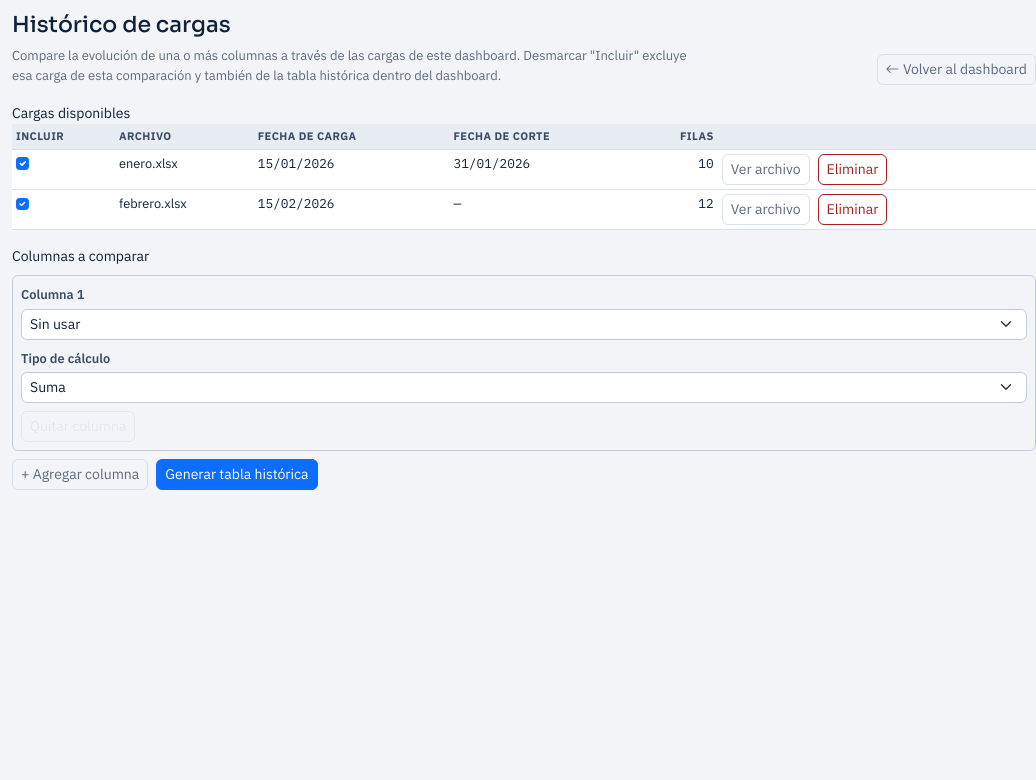
DashboardHistoricoPage › sin elegir ninguna columna, "Generar tabla histórica" muestra un error de validación
expect the text "enero.xlsx" is shown: met, box [115,149,254,190]
Click the button "Generar tabla histórica": point(237, 474) [156,459,318,490]
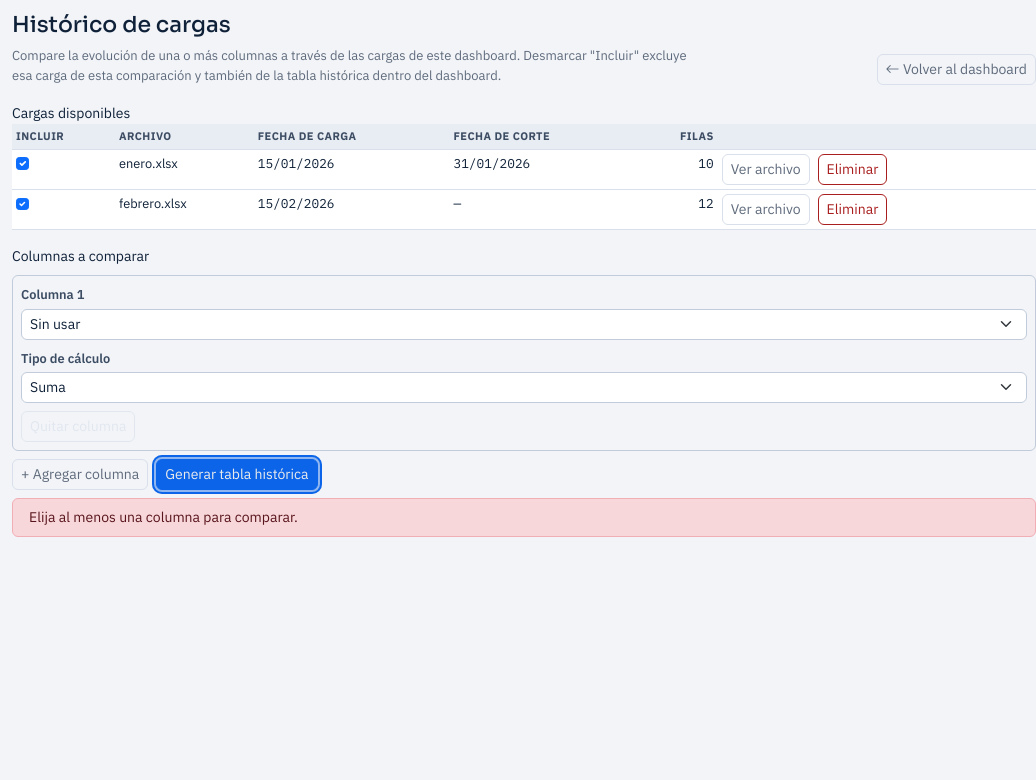
expect the text "Elija al menos una columna para comparar." is shown: met, box [12,498,1035,537]
